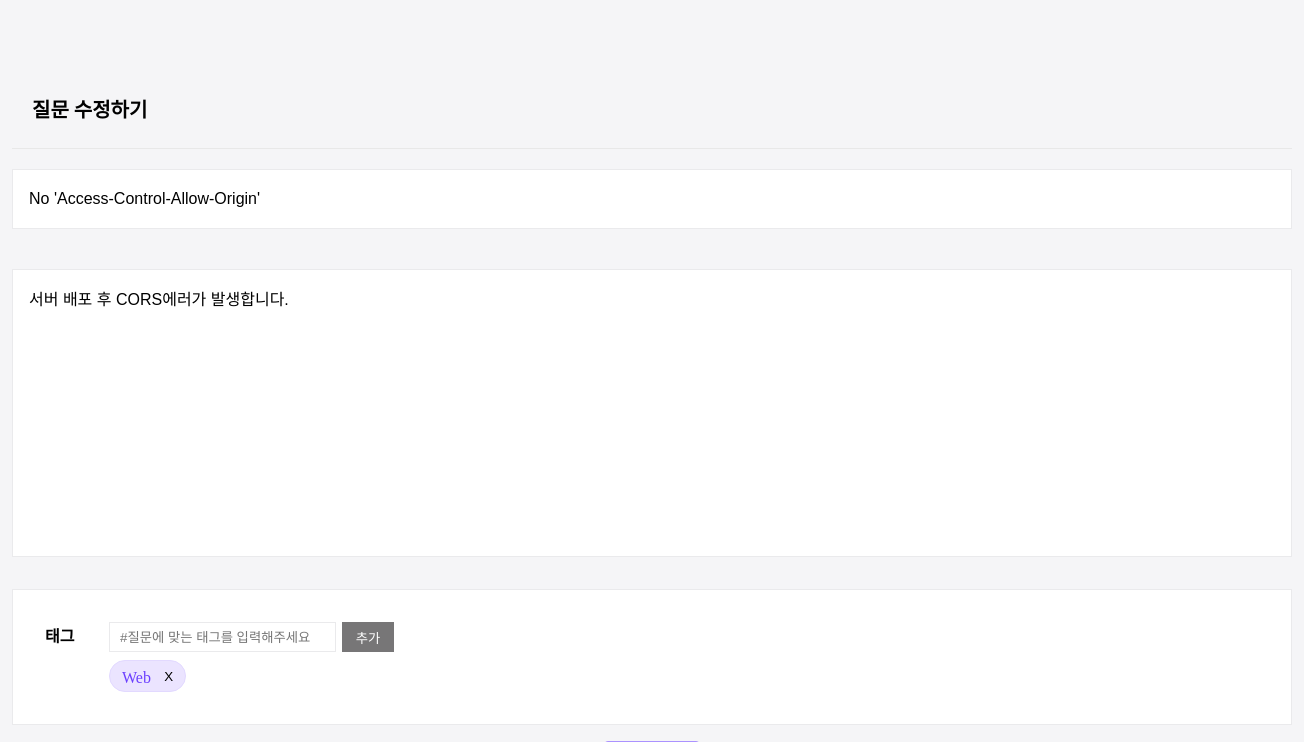
Test: QuestionEditForm › with empty body › renders error message
Clear the text box with placeholder "문의하실 내용을 입력하세요": (652, 413) [12, 269, 1292, 557]
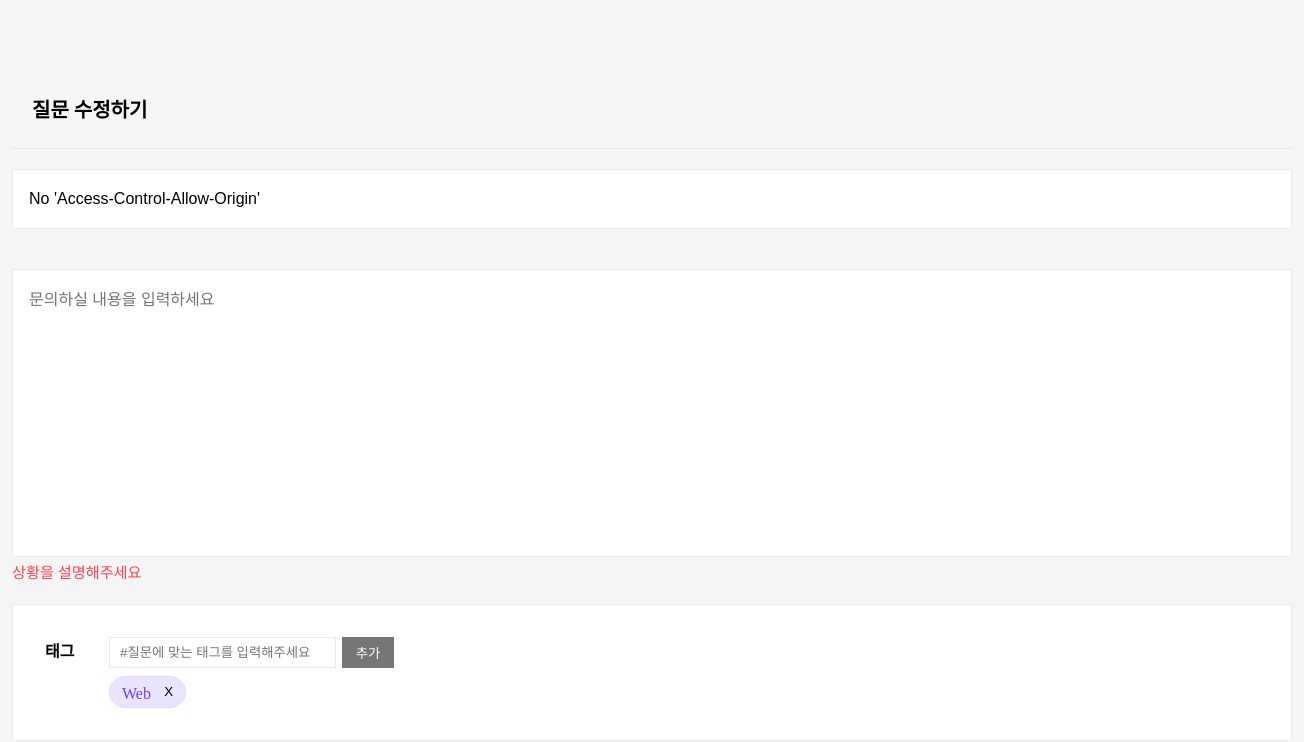
Expected: the text "상황을 설명해주세요" is shown, [12, 564, 142, 581]
